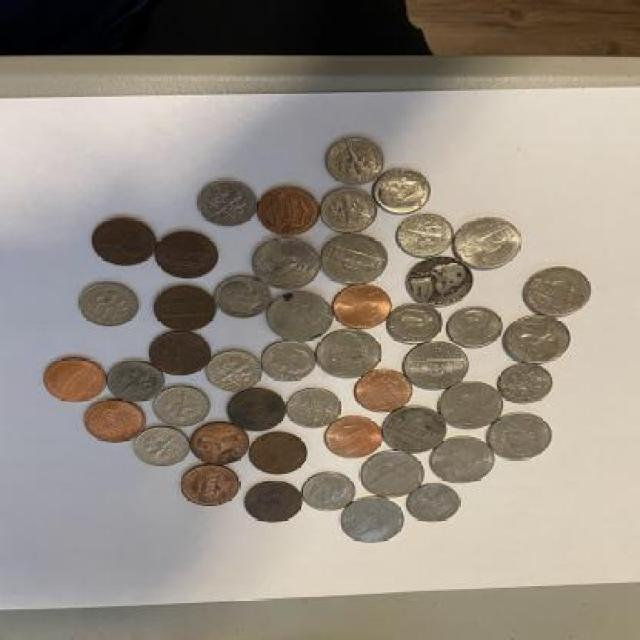Dime: (322, 135, 384, 188), (75, 282, 138, 331), (195, 180, 260, 226), (316, 186, 378, 234), (152, 386, 211, 432), (260, 340, 318, 386), (445, 304, 503, 350), (374, 170, 432, 216), (286, 384, 343, 430), (397, 214, 454, 260), (106, 360, 168, 402), (300, 471, 358, 514), (216, 276, 270, 322), (386, 303, 442, 346), (498, 362, 554, 404), (208, 350, 264, 392), (133, 429, 190, 466)
Nickel: (317, 230, 391, 288), (520, 263, 594, 319), (452, 217, 523, 271), (264, 289, 334, 343), (251, 237, 320, 291), (502, 312, 572, 365), (402, 340, 471, 392), (406, 256, 476, 306), (337, 496, 408, 544), (314, 331, 383, 380), (438, 382, 506, 431), (383, 403, 448, 454), (490, 411, 556, 460), (429, 438, 497, 484), (360, 452, 425, 498), (404, 482, 464, 528)
Penny: (92, 215, 157, 268), (256, 187, 322, 236), (154, 230, 220, 278), (38, 357, 106, 403), (154, 283, 218, 331), (330, 283, 392, 332), (224, 388, 290, 432), (82, 402, 146, 446), (149, 332, 211, 377), (243, 478, 303, 524), (249, 430, 308, 476), (189, 422, 248, 468), (176, 466, 238, 509), (324, 417, 382, 460), (357, 369, 415, 411)
